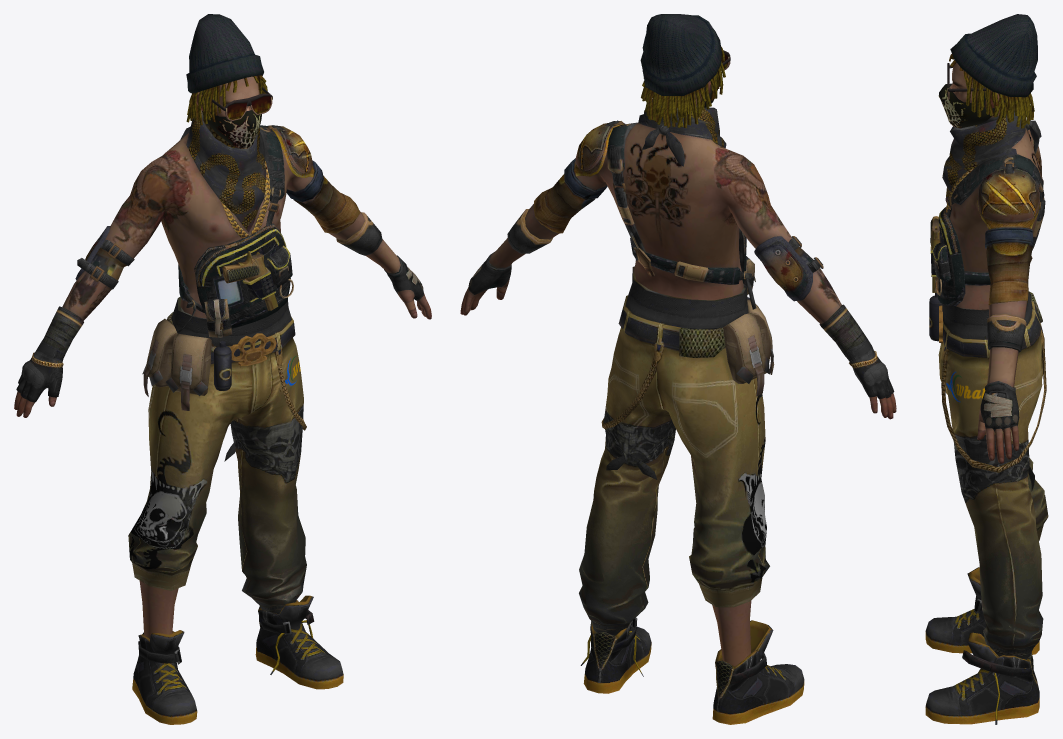
The model's file is Gangsterrap Male.obj.
3 renders of one model, left to right at view 1: azimuth 30°, elevation 25°; view 2: azimuth 150°, elevation 25°; view 3: azimuth 270°, elevation 25°, orthographic. The views are drawn at different scales.
Parts seen in each view (by area): view 1: Male_Lobby_Bottom_Cos_Gangsterrap, Male_Lobby_Top_Cos_Gangsterrap, Male_Lobby_Top_Cos_Gangsterrap.001, Male_Lobby_Shoe_Cos_Gangsterrap, Male_Lobby_Hair_Cos_Gangsterrap.001, Male_Lobby_Accessory_Cos_Gangsterrap, Male_Lobby_Hair_Cos_Gangsterrap, Male_Lobby_Head_Cos_Gangsterrap; view 2: Male_Lobby_Bottom_Cos_Gangsterrap, Male_Lobby_Top_Cos_Gangsterrap.001, Male_Lobby_Top_Cos_Gangsterrap, Male_Lobby_Shoe_Cos_Gangsterrap, Male_Lobby_Hair_Cos_Gangsterrap.001, Male_Lobby_Hair_Cos_Gangsterrap; view 3: Male_Lobby_Bottom_Cos_Gangsterrap, Male_Lobby_Top_Cos_Gangsterrap, Male_Lobby_Shoe_Cos_Gangsterrap, Male_Lobby_Top_Cos_Gangsterrap.001, Male_Lobby_Hair_Cos_Gangsterrap.001, Male_Lobby_Hair_Cos_Gangsterrap, Male_Lobby_Accessory_Cos_Gangsterrap, Male_Lobby_Head_Cos_Gangsterrap.
Part boxes in pixels (left/top/right/bottom): Male_Lobby_Bottom_Cos_Gangsterrap: left=128, top=296, right=306, bottom=613; Male_Lobby_Top_Cos_Gangsterrap: left=16, top=110, right=423, bottom=402; Male_Lobby_Top_Cos_Gangsterrap.001: left=14, top=133, right=431, bottom=638; Male_Lobby_Shoe_Cos_Gangsterrap: left=132, top=595, right=343, bottom=724; Male_Lobby_Hair_Cos_Gangsterrap.001: left=186, top=14, right=263, bottom=93; Male_Lobby_Accessory_Cos_Gangsterrap: left=199, top=87, right=272, bottom=148; Male_Lobby_Hair_Cos_Gangsterrap: left=186, top=75, right=267, bottom=125; Male_Lobby_Head_Cos_Gangsterrap: left=196, top=76, right=259, bottom=116; Male_Lobby_Bottom_Cos_Gangsterrap: left=579, top=266, right=774, bottom=635; Male_Lobby_Top_Cos_Gangsterrap.001: left=460, top=122, right=896, bottom=666; Male_Lobby_Top_Cos_Gangsterrap: left=468, top=99, right=894, bottom=399; Male_Lobby_Shoe_Cos_Gangsterrap: left=580, top=617, right=804, bottom=724; Male_Lobby_Hair_Cos_Gangsterrap.001: left=640, top=14, right=721, bottom=95; Male_Lobby_Hair_Cos_Gangsterrap: left=641, top=46, right=725, bottom=128; Male_Lobby_Bottom_Cos_Gangsterrap: left=929, top=291, right=1048, bottom=659; Male_Lobby_Top_Cos_Gangsterrap: left=930, top=110, right=1045, bottom=431; Male_Lobby_Shoe_Cos_Gangsterrap: left=925, top=567, right=1039, bottom=724; Male_Lobby_Top_Cos_Gangsterrap.001: left=949, top=120, right=1042, bottom=463; Male_Lobby_Hair_Cos_Gangsterrap.001: left=950, top=14, right=1037, bottom=97; Male_Lobby_Hair_Cos_Gangsterrap: left=949, top=54, right=1034, bottom=128; Male_Lobby_Accessory_Cos_Gangsterrap: left=938, top=63, right=1005, bottom=128; Male_Lobby_Head_Cos_Gangsterrap: left=949, top=62, right=1014, bottom=117.
Size of the model in its own units: 0.6527 by 0.9943 by 0.1675.
8 materials, 8 textured.
